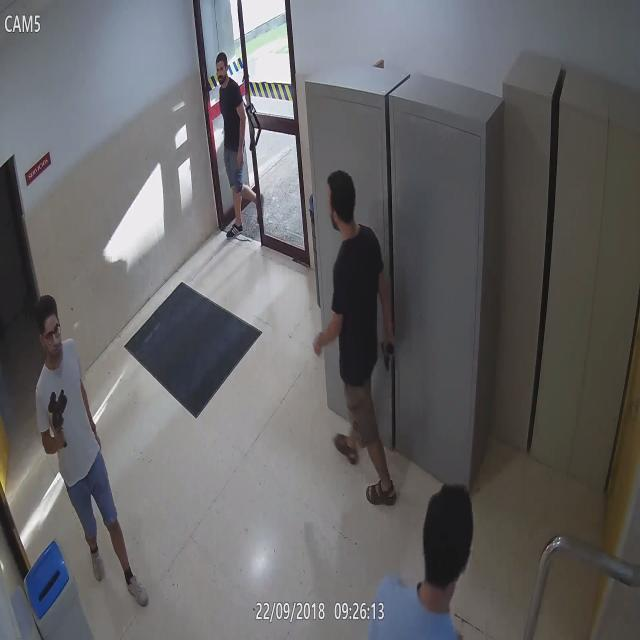Gun: (47, 392, 81, 438), (379, 334, 403, 372)
